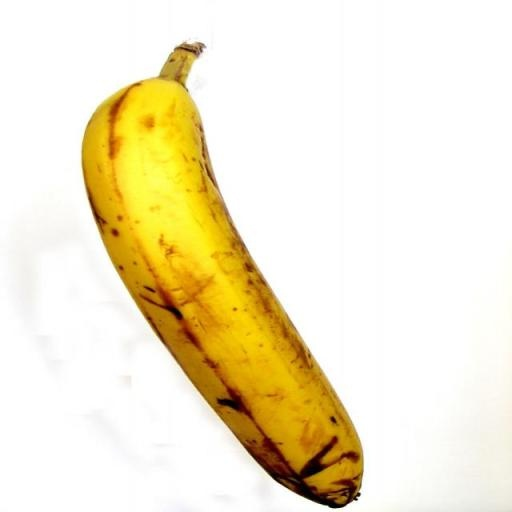fruit: (82, 44, 362, 507)
